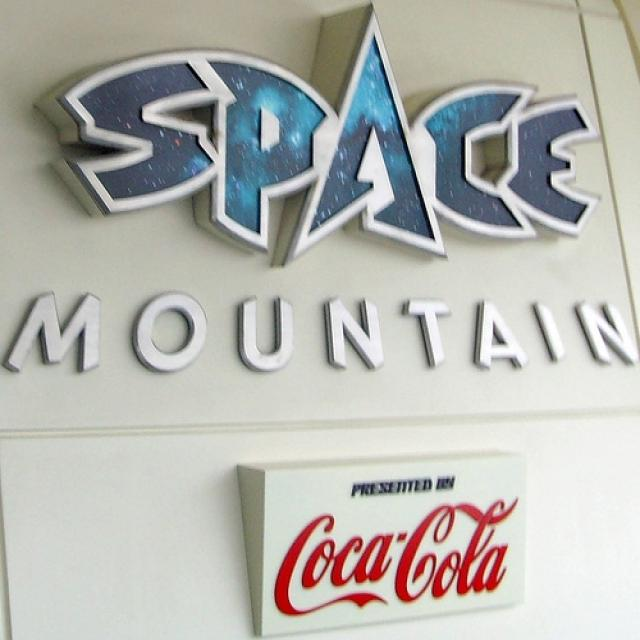cocacola: (268, 487, 529, 630)
